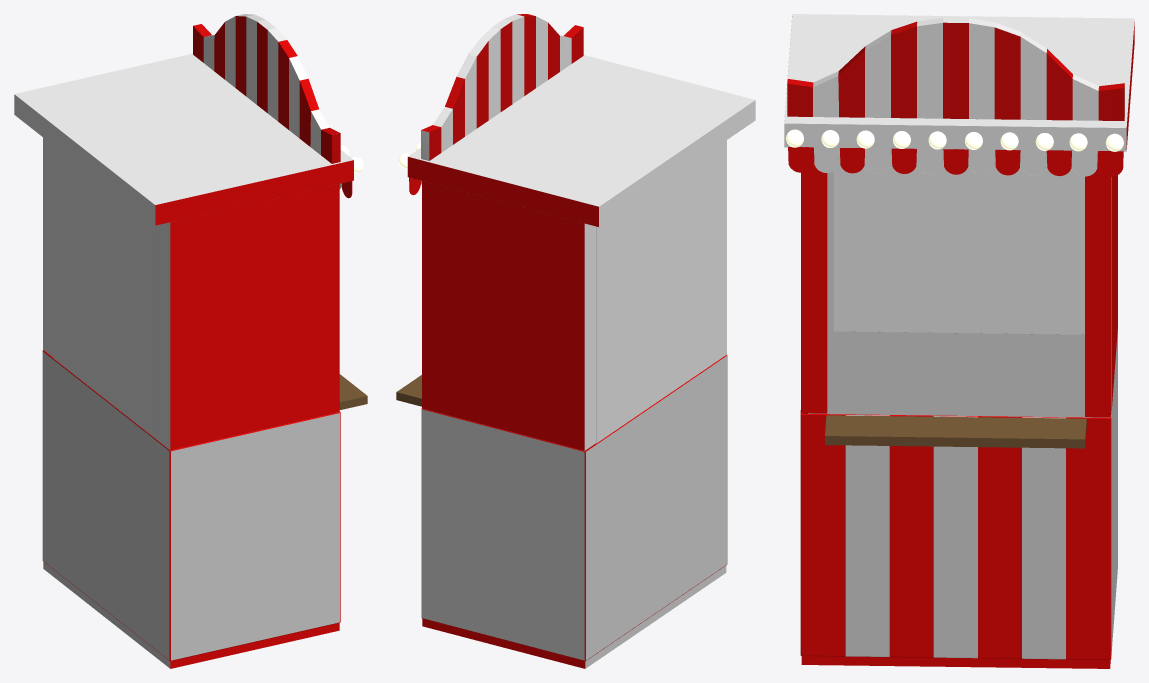
Rendered from Ticketbooth2.glb.
The picture shows the model from 3 angles, left to right: view 1: azimuth 30°, elevation 25°; view 2: azimuth 150°, elevation 25°; view 3: azimuth 270°, elevation 25°; orthographic projection. The views are drawn at different scales.
Visible parts, largest first — view 1: wallBack_lambert6_0.002; view 2: wallBack_lambert6_0.002; view 3: wallBack_lambert6_0.002.
Boxes of the visible parts, x1=… form: wallBack_lambert6_0.002: x1=14, y1=14, x2=367, y2=668; wallBack_lambert6_0.002: x1=396, y1=14, x2=755, y2=668; wallBack_lambert6_0.002: x1=784, y1=14, x2=1134, y2=668.
Size of the model in its own units: 0.3227 by 0.7389 by 0.366.
